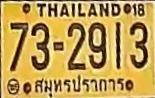1: (114, 21, 120, 68)
2: (67, 22, 85, 68)
3: (30, 22, 49, 69), (129, 21, 147, 67)
7: (9, 21, 28, 70)
9: (88, 22, 106, 68)
SPK: (31, 73, 127, 94)
